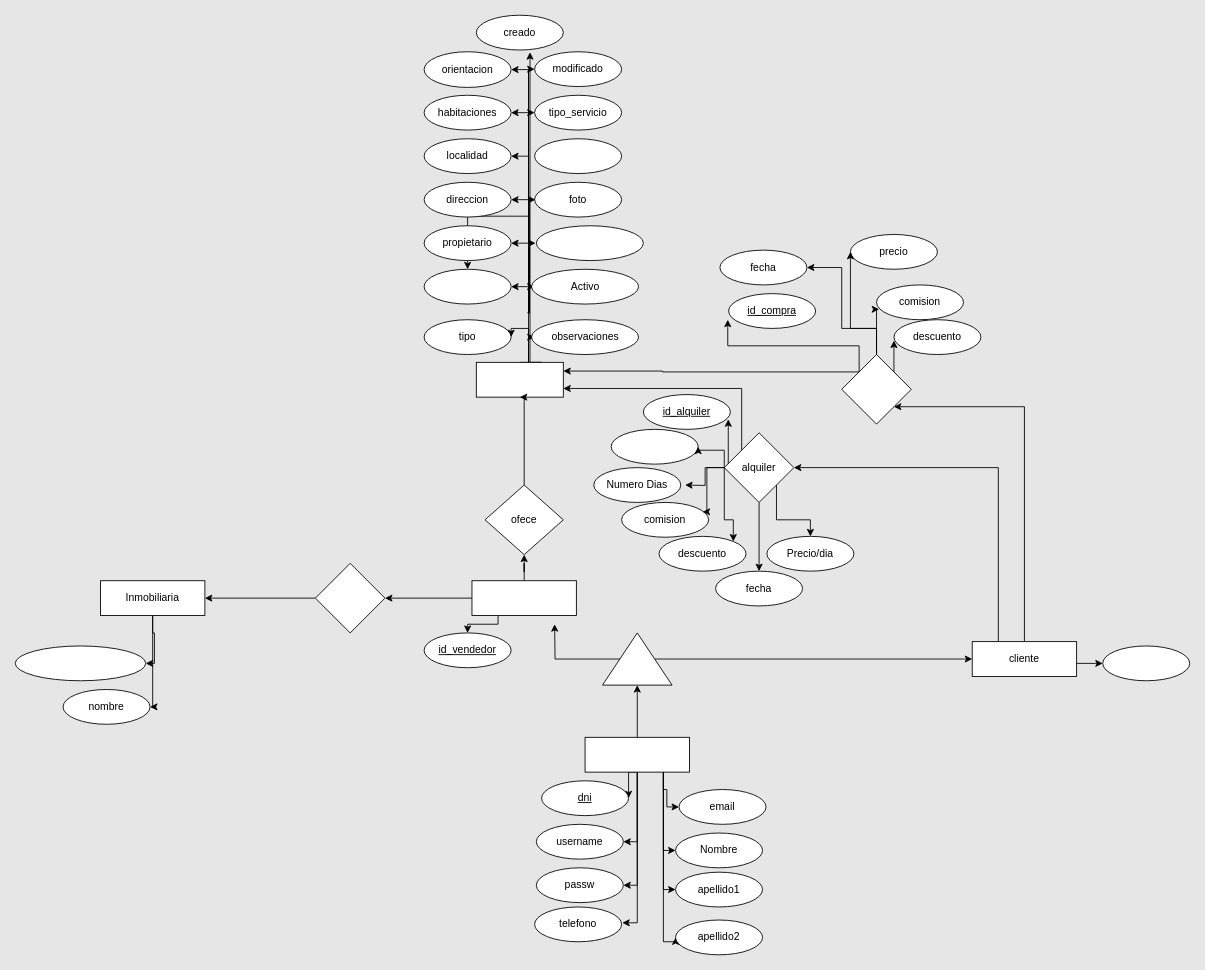
This 1205x970 diagram has some shape labels left out. Here are the shapes that lost their labels. From the top down, the box of each, then its label:
(534, 138, 622, 174): metros
(535, 225, 643, 261): Fecha_Construccion
(423, 268, 511, 304): Referencia
(475, 361, 563, 397): Inmueble
(841, 354, 911, 424): compra
(610, 428, 698, 464): Fecha-Entrada
(315, 562, 385, 633): pertenece
(471, 580, 576, 616): vendedor
(14, 645, 146, 681): cif
(1102, 645, 1190, 681): id_cliente
(584, 736, 689, 772): Usuario
